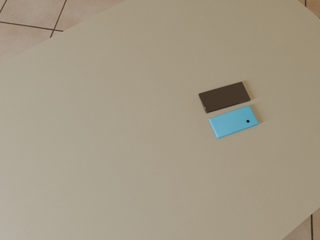phone: (199, 82, 250, 113), (209, 106, 258, 138)
